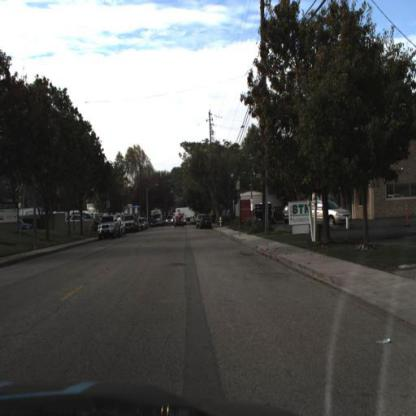car: (310, 196, 361, 228), (97, 209, 123, 244), (10, 216, 37, 234), (64, 210, 88, 226), (282, 201, 294, 227), (199, 213, 213, 233), (173, 215, 186, 233)
